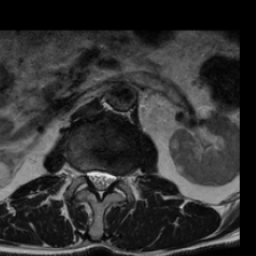CCS_normal: (95, 165, 106, 202)
LFS_severe_stenosis: (116, 169, 125, 190)
LLS_normal: (106, 169, 116, 189)
RFS_severe_stenosis: (78, 164, 86, 188)
RLS_normal: (86, 165, 95, 190)
